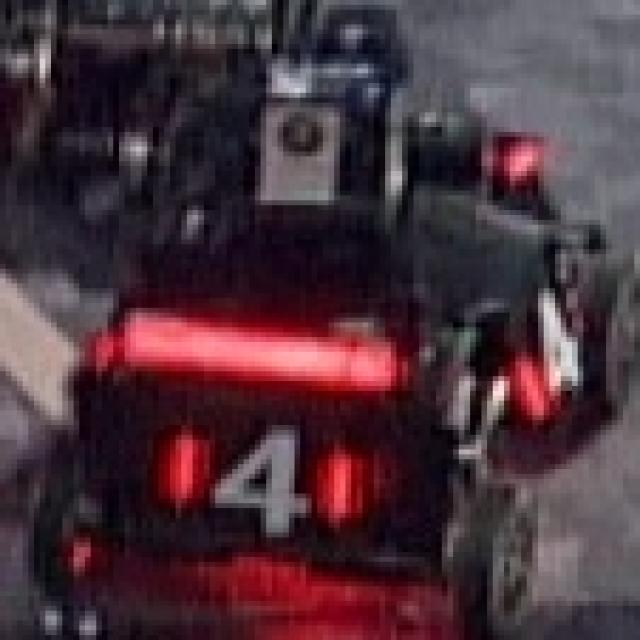R4: (150, 418, 360, 535), (490, 272, 597, 432)
